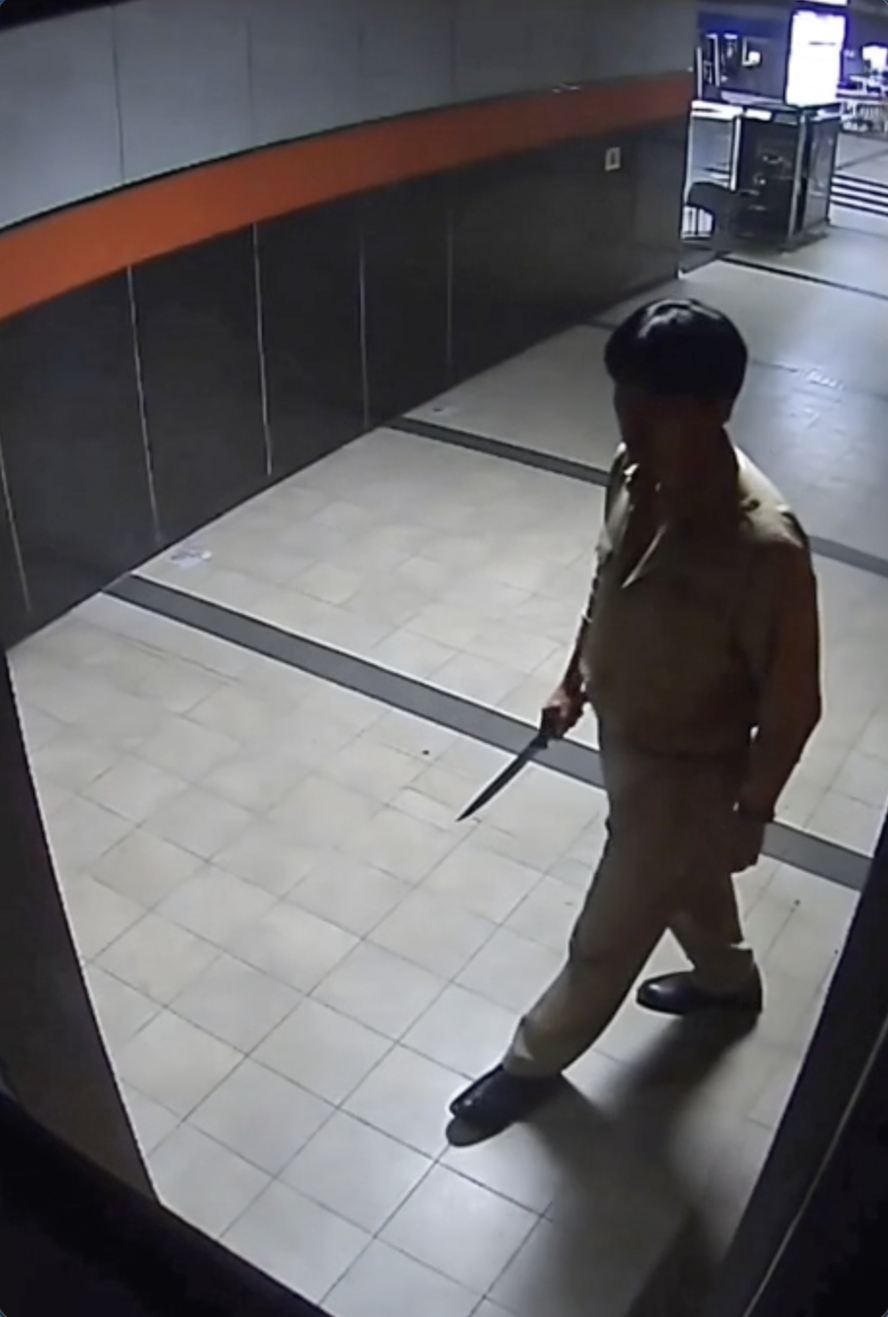Heavy Gun: (435, 296, 830, 1129)
Knife: (451, 676, 604, 826)
